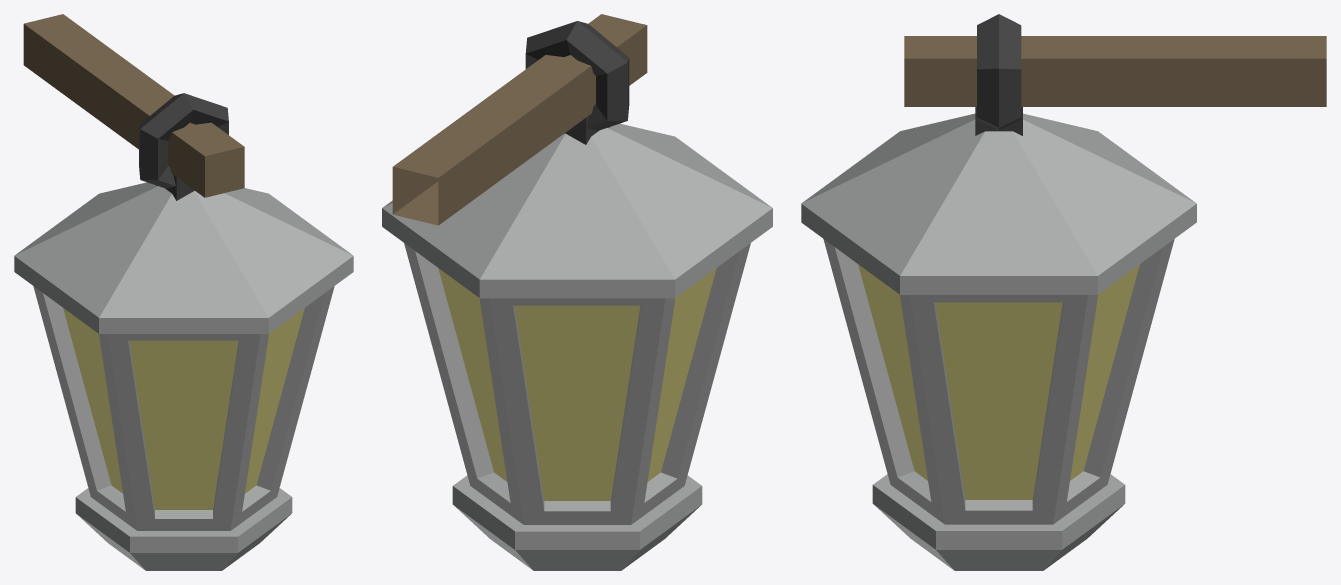
File: Lamp.fbx
3 renders of one model, left to right at view 1: azimuth 30°, elevation 25°; view 2: azimuth 150°, elevation 25°; view 3: azimuth 270°, elevation 25°, orthographic. The views are drawn at different scales.
Parts seen in each view (by area): view 1: Lamp; view 2: Lamp; view 3: Lamp.
Boxes of the visible parts, x1,y1,x2,y2 form: Lamp: [14, 14, 353, 570]; Lamp: [382, 14, 772, 570]; Lamp: [801, 14, 1326, 570].
Size of the model in its own units: 12.36 by 20.87 by 18.96.
Materials: 1 (1 with a texture image).
